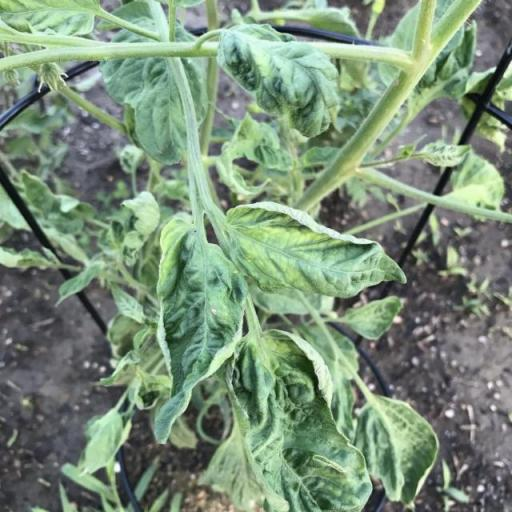disease_tomato: (154, 209, 246, 449), (222, 200, 410, 298), (211, 17, 342, 138)
